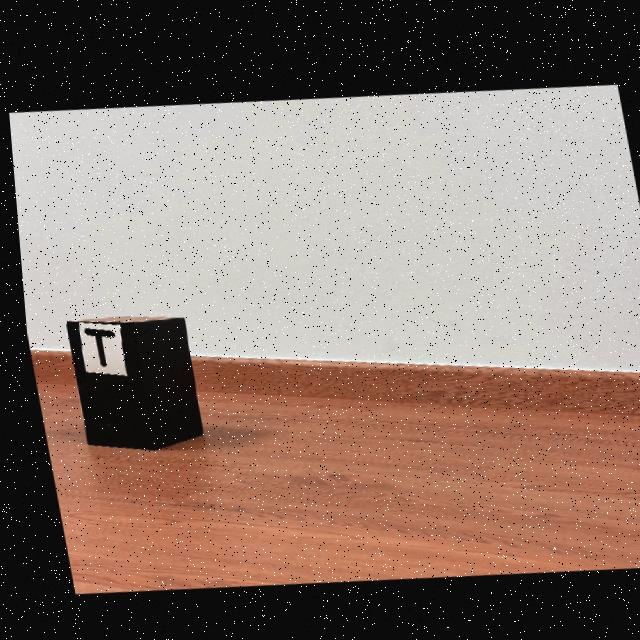T: (79, 327, 108, 366)
